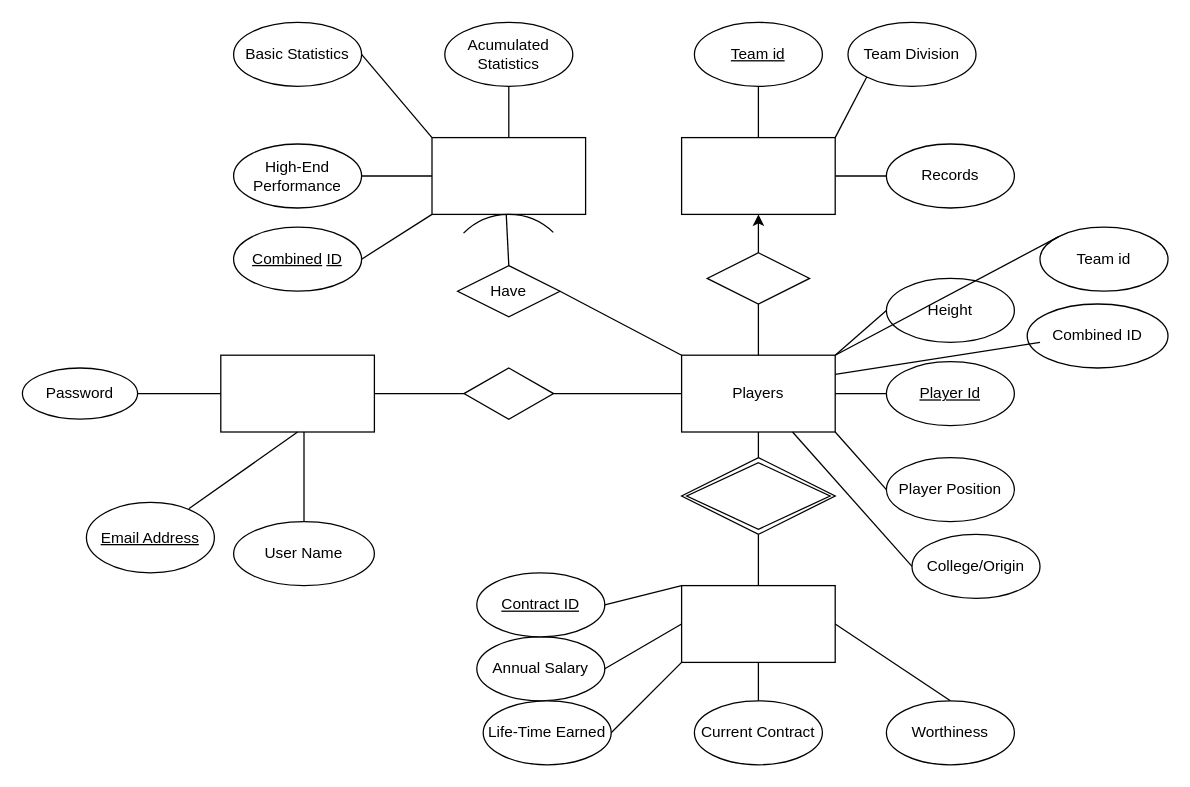
Image size: 1190x787. Some labels were removed from this diagram. Here are the shapes that lost their labels. From the top down, the box of each, then its label:
(431, 136, 586, 214): Statistics
(680, 136, 835, 214): Teams
(706, 252, 810, 304): Plays at
(220, 354, 374, 432): User
(463, 367, 554, 419): Follows
(680, 456, 835, 534): Has
(680, 584, 835, 662): Salary Contracts
